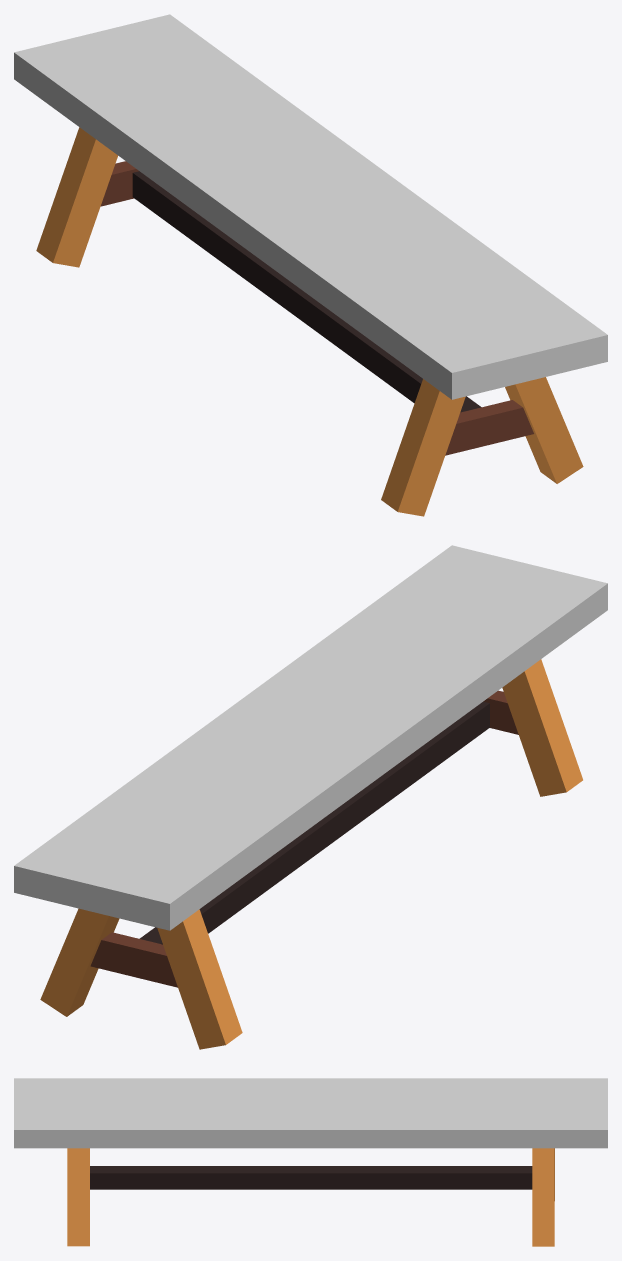
The model's file is LONG CHAIR.fbx.
The picture shows the model from 3 angles, top to bottom: view 1: azimuth 30°, elevation 25°; view 2: azimuth 150°, elevation 25°; view 3: azimuth 270°, elevation 25°; orthographic projection. The views are drawn at different scales.
Parts seen in each view (by area): view 1: Cube, Cube.010, Cube.008, Cube.002, Cube.001, Cube.003, Cube.009; view 2: Cube, Cube.010, Cube.008, Cube.002, Cube.007, Cube.009, Cube.003; view 3: Cube, Cube.010, Cube.001, Cube.007.
Boxes of the visible parts, x1,y1,x2,y2 form: Cube: [14, 14, 607, 399]; Cube.010: [132, 171, 481, 412]; Cube.008: [36, 127, 117, 267]; Cube.002: [381, 379, 465, 516]; Cube.001: [505, 377, 583, 483]; Cube.003: [445, 400, 533, 455]; Cube.009: [100, 161, 139, 206]; Cube: [14, 545, 607, 930]; Cube.010: [139, 701, 489, 944]; Cube.008: [157, 909, 242, 1049]; Cube.002: [502, 659, 582, 796]; Cube.007: [40, 908, 119, 1016]; Cube.009: [90, 932, 177, 987]; Cube.003: [483, 690, 518, 734]; Cube: [14, 1078, 607, 1148]; Cube.010: [90, 1166, 532, 1189]; Cube.001: [67, 1148, 89, 1246]; Cube.007: [532, 1148, 554, 1246].
Size of the model in its own units: 241 by 216 by 973.
